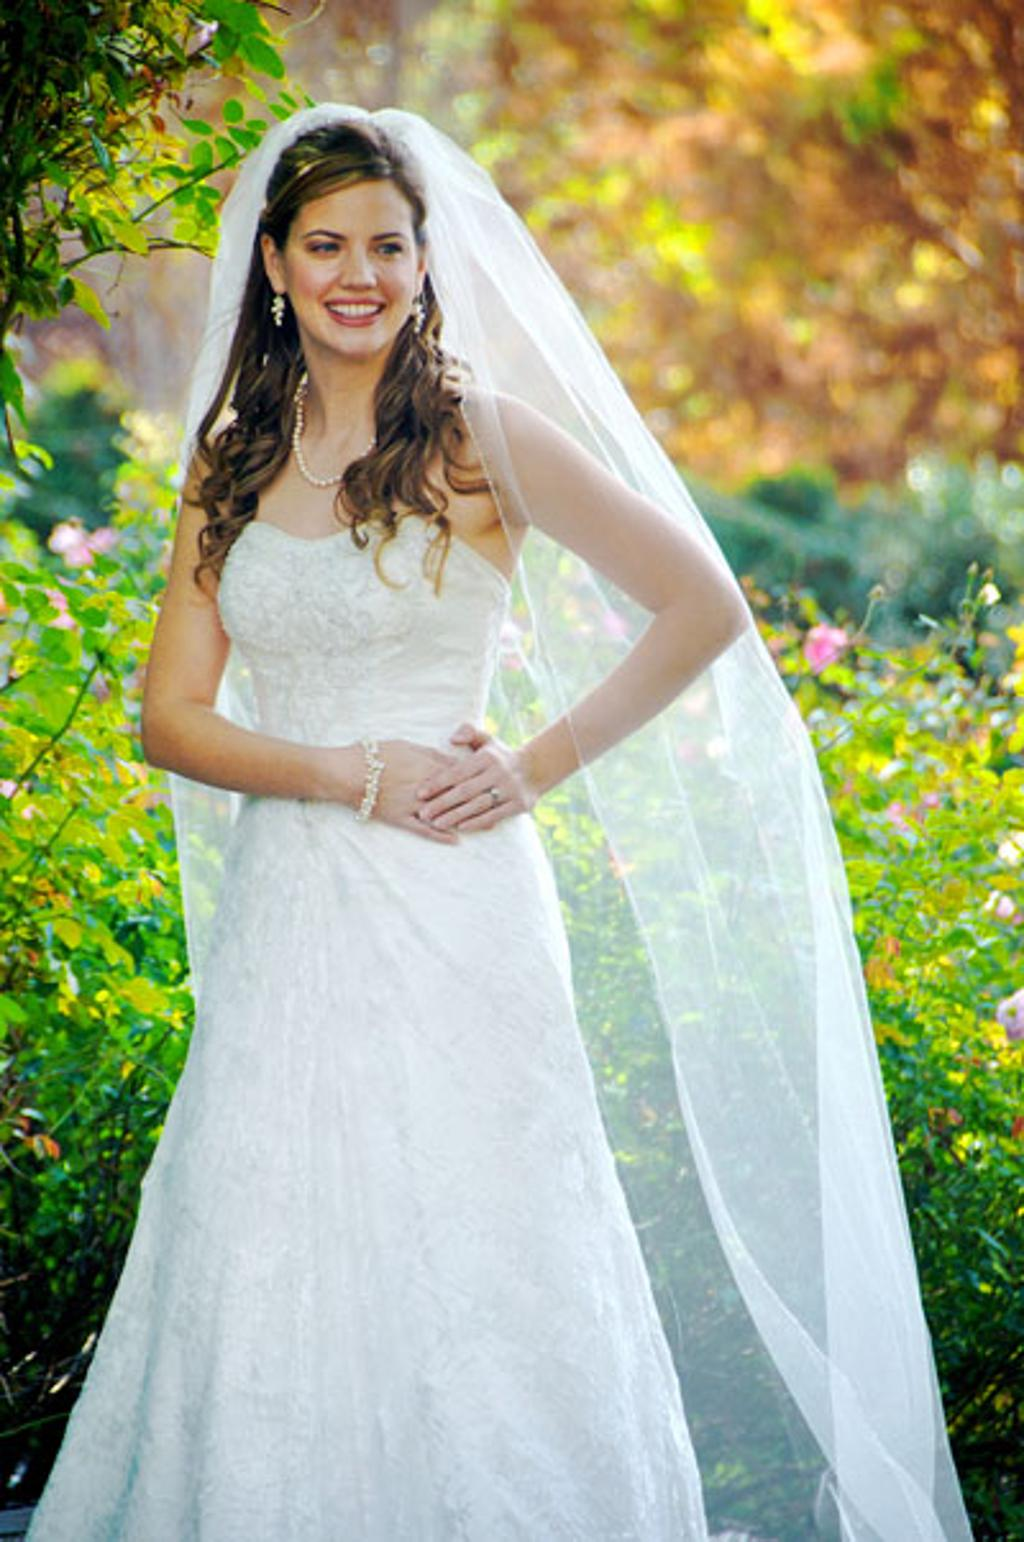face: (286, 184, 422, 356)
